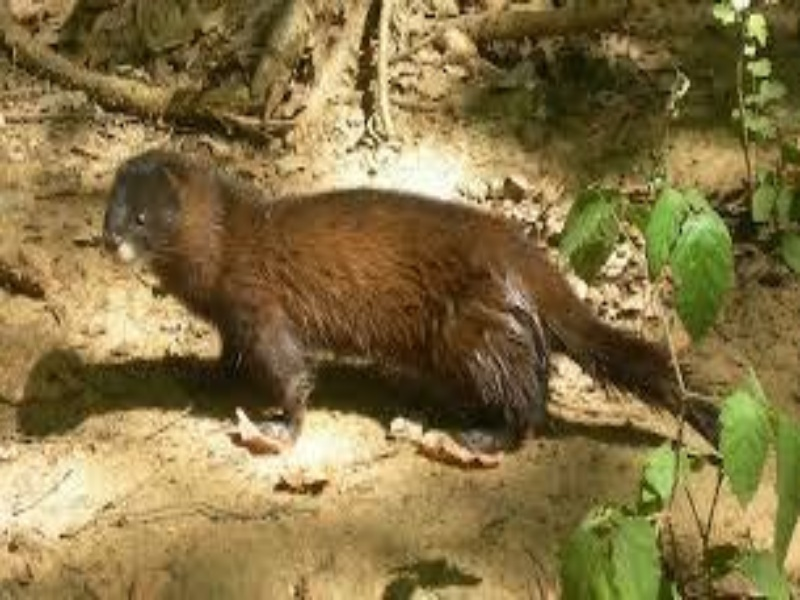minkish: (101, 149, 740, 465)
